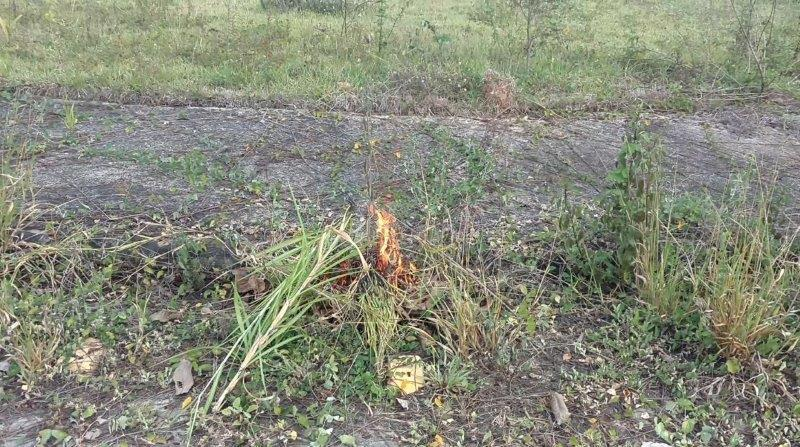fire: (374, 203, 411, 273)
